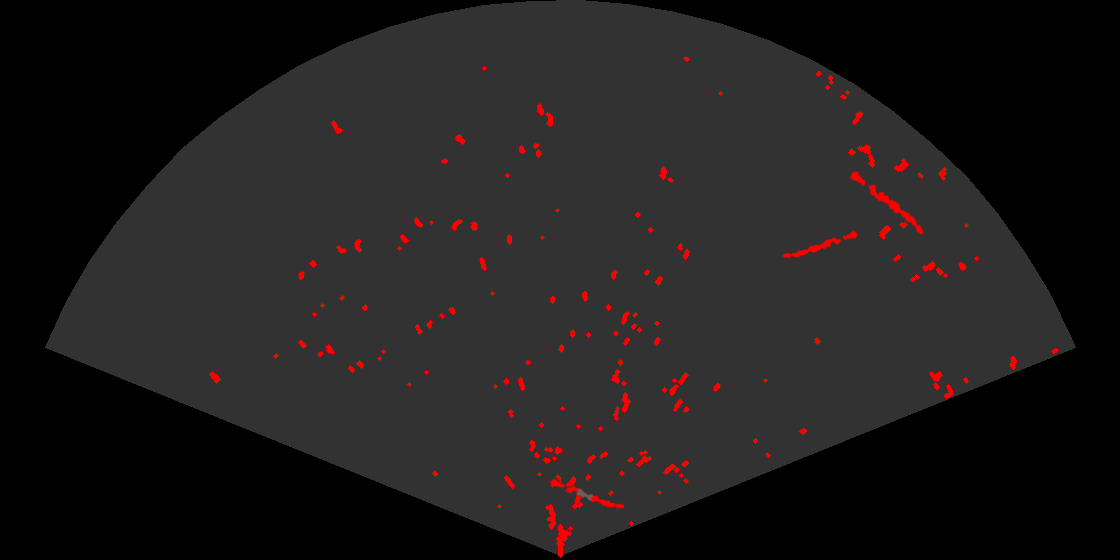chain: (843, 164, 926, 236), (543, 477, 627, 510), (780, 229, 864, 260)
